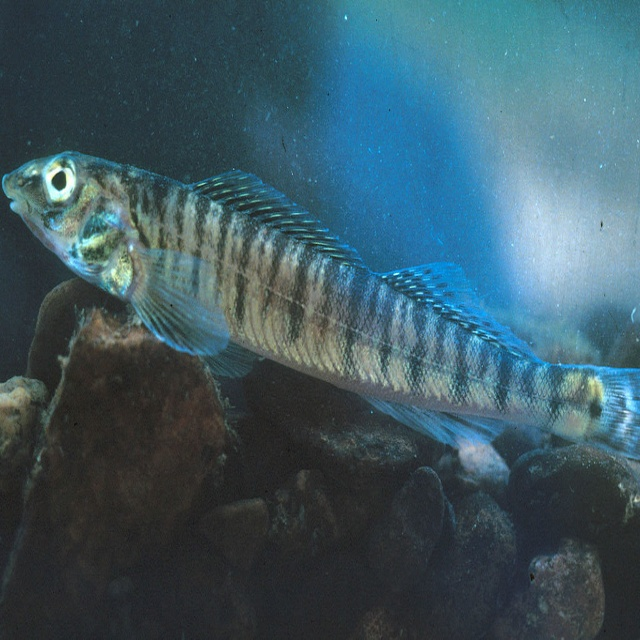Fish: (15, 143, 624, 486)
